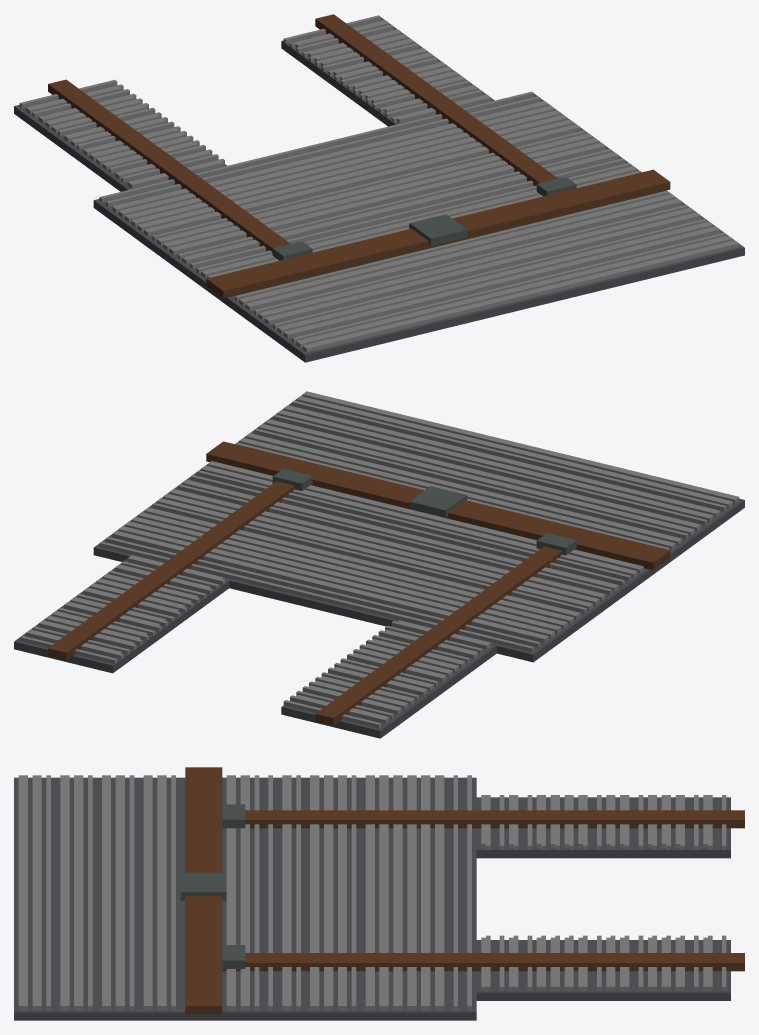
File: ch_chainmail_vest.glb
3 renders of one model, top to bottom at view 1: azimuth 30°, elevation 25°; view 2: azimuth 150°, elevation 25°; view 3: azimuth 270°, elevation 25°, orthographic. The views are drawn at different scales.
Parts seen in each view (by area): view 1: ch_chainmail_vest:compound; view 2: ch_chainmail_vest:compound; view 3: ch_chainmail_vest:compound.
Boxes of the visible parts, <box> form: ch_chainmail_vest:compound: <box>14,14,744,362</box>; ch_chainmail_vest:compound: <box>14,391,744,738</box>; ch_chainmail_vest:compound: <box>14,767,744,1020</box>.
Bounding box in the file's own units: 0.488 × 0.02 × 0.632.
